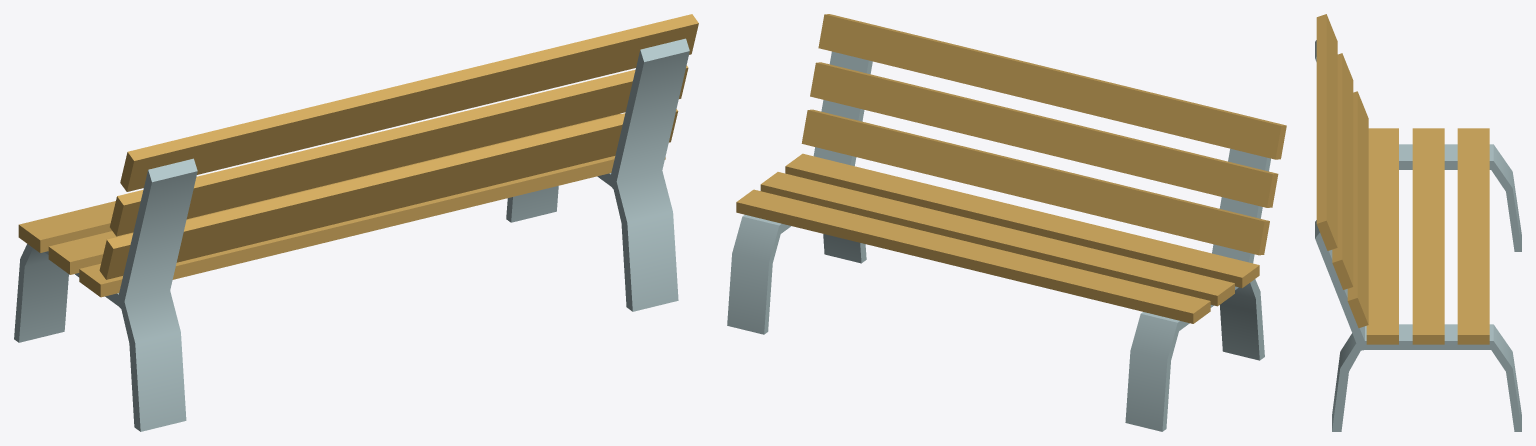
Rendered from Banc.FBX.
The picture shows the model from 3 angles, left to right: view 1: azimuth 30°, elevation 25°; view 2: azimuth 150°, elevation 25°; view 3: azimuth 270°, elevation 25°; orthographic projection. The views are drawn at different scales.
Parts seen in each view (by area): view 1: Banc; view 2: Banc; view 3: Banc.
Boxes of the visible parts, box(x1,y1,x2,y2) form: Banc: box(14, 14, 698, 431); Banc: box(727, 14, 1286, 431); Banc: box(1315, 14, 1521, 431).
Size of the model in its own units: 2 by 0.9708 by 0.8466.
